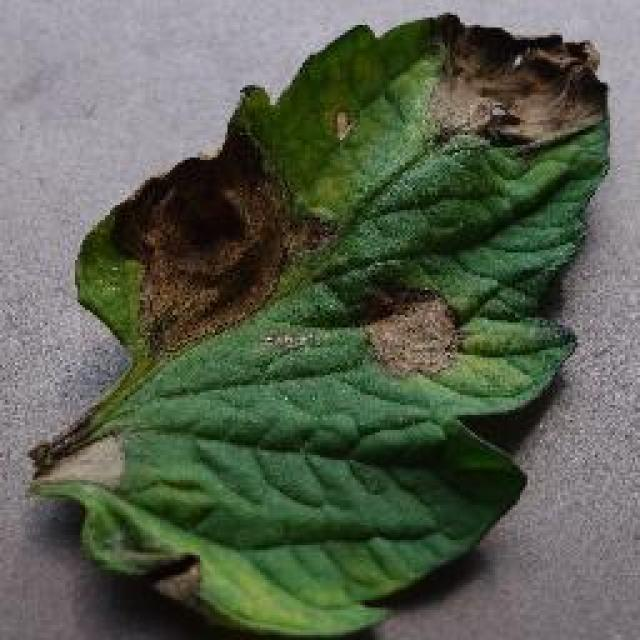leaf blight: (28, 13, 613, 639)
